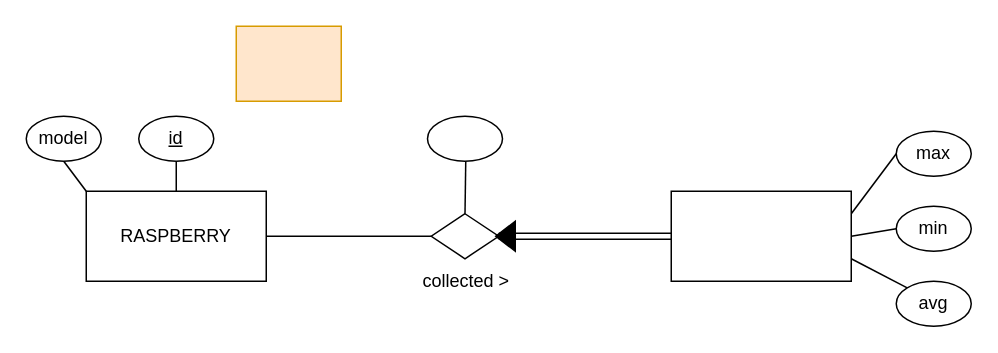
Image size: 998x353. Some labels were removed from this diagram. Here are the shapes that lost their labels. From the top down, the centre of each, then its label:
the point at 288,63: ip nome localizacao
the point at 464,138: at
the point at 760,235: DATA
